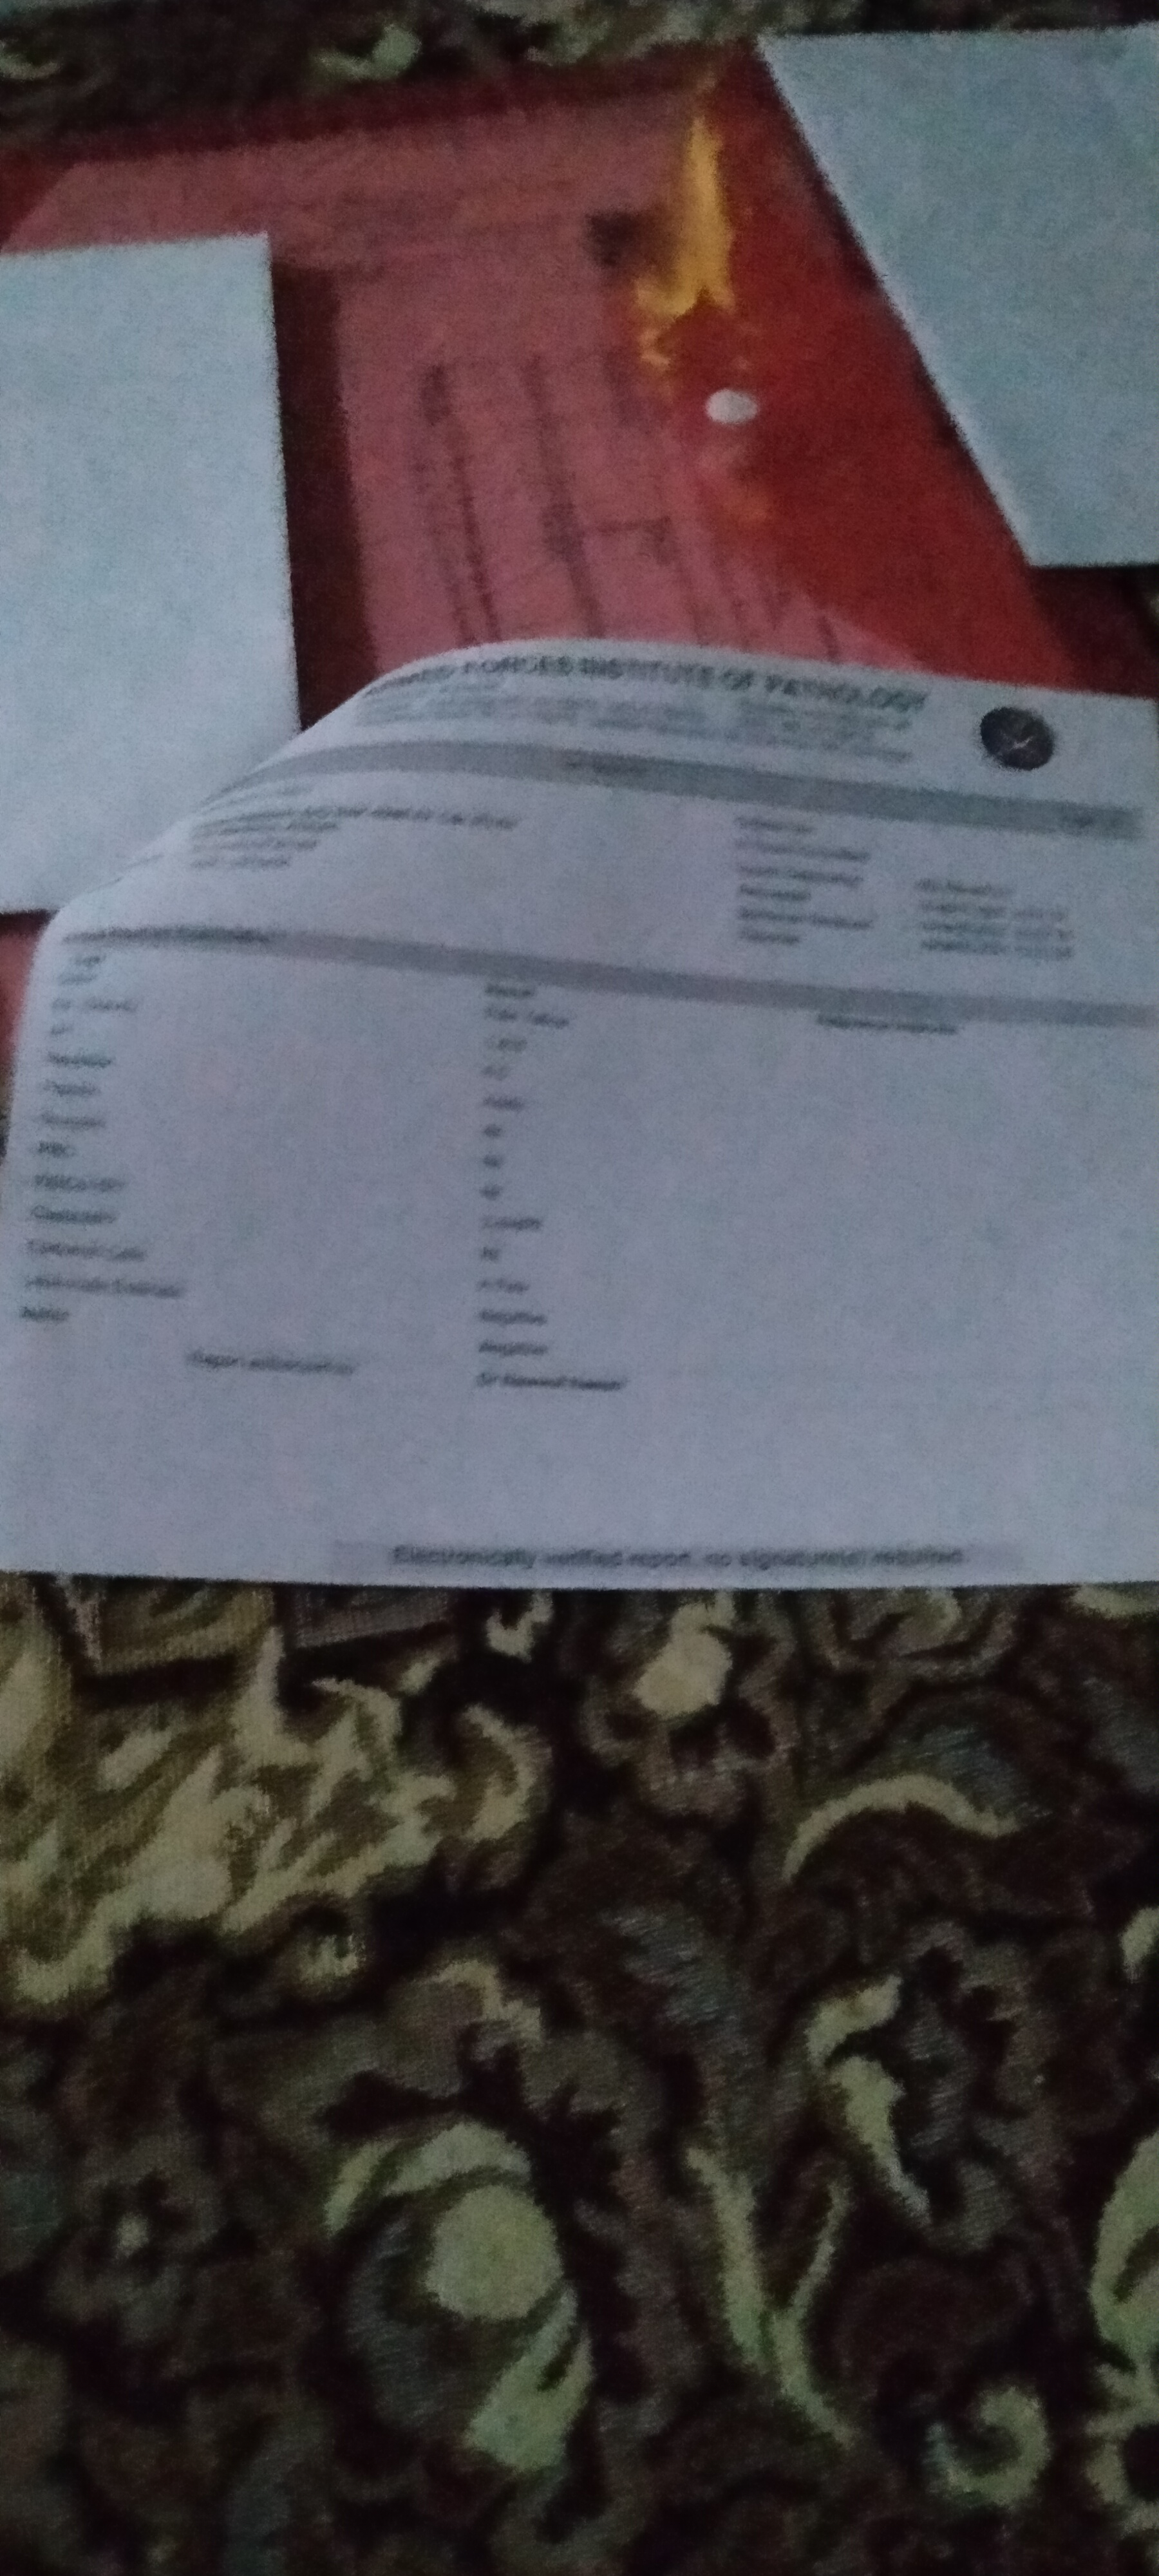report: (25, 907, 1159, 1449)
